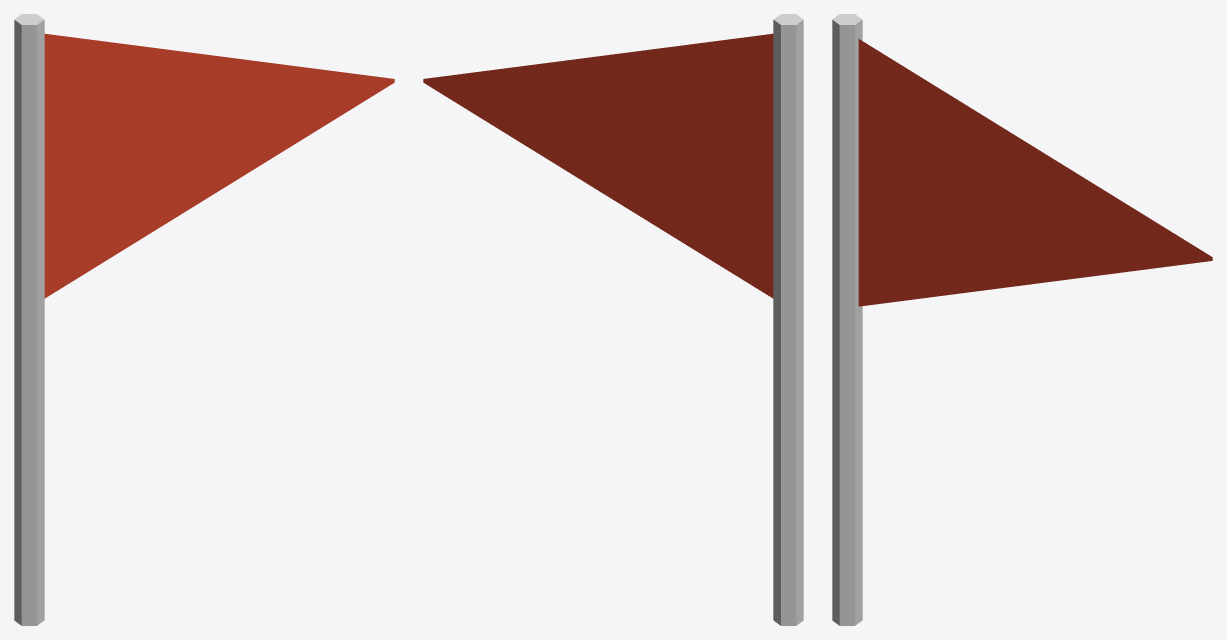
The model's file is Flag.fbx.
3 renders of one model, left to right at view 1: azimuth 30°, elevation 25°; view 2: azimuth 150°, elevation 25°; view 3: azimuth 330°, elevation 25°, orthographic.
Parts seen in each view (by area): view 1: Plane; view 2: Plane; view 3: Plane.
Boxes of the visible parts, bbox=[...] form: Plane: bbox=[14, 14, 394, 625]; Plane: bbox=[423, 14, 803, 625]; Plane: bbox=[832, 14, 1212, 625].
Bounding box in the file's own units: 131 × 200 × 9.13.
